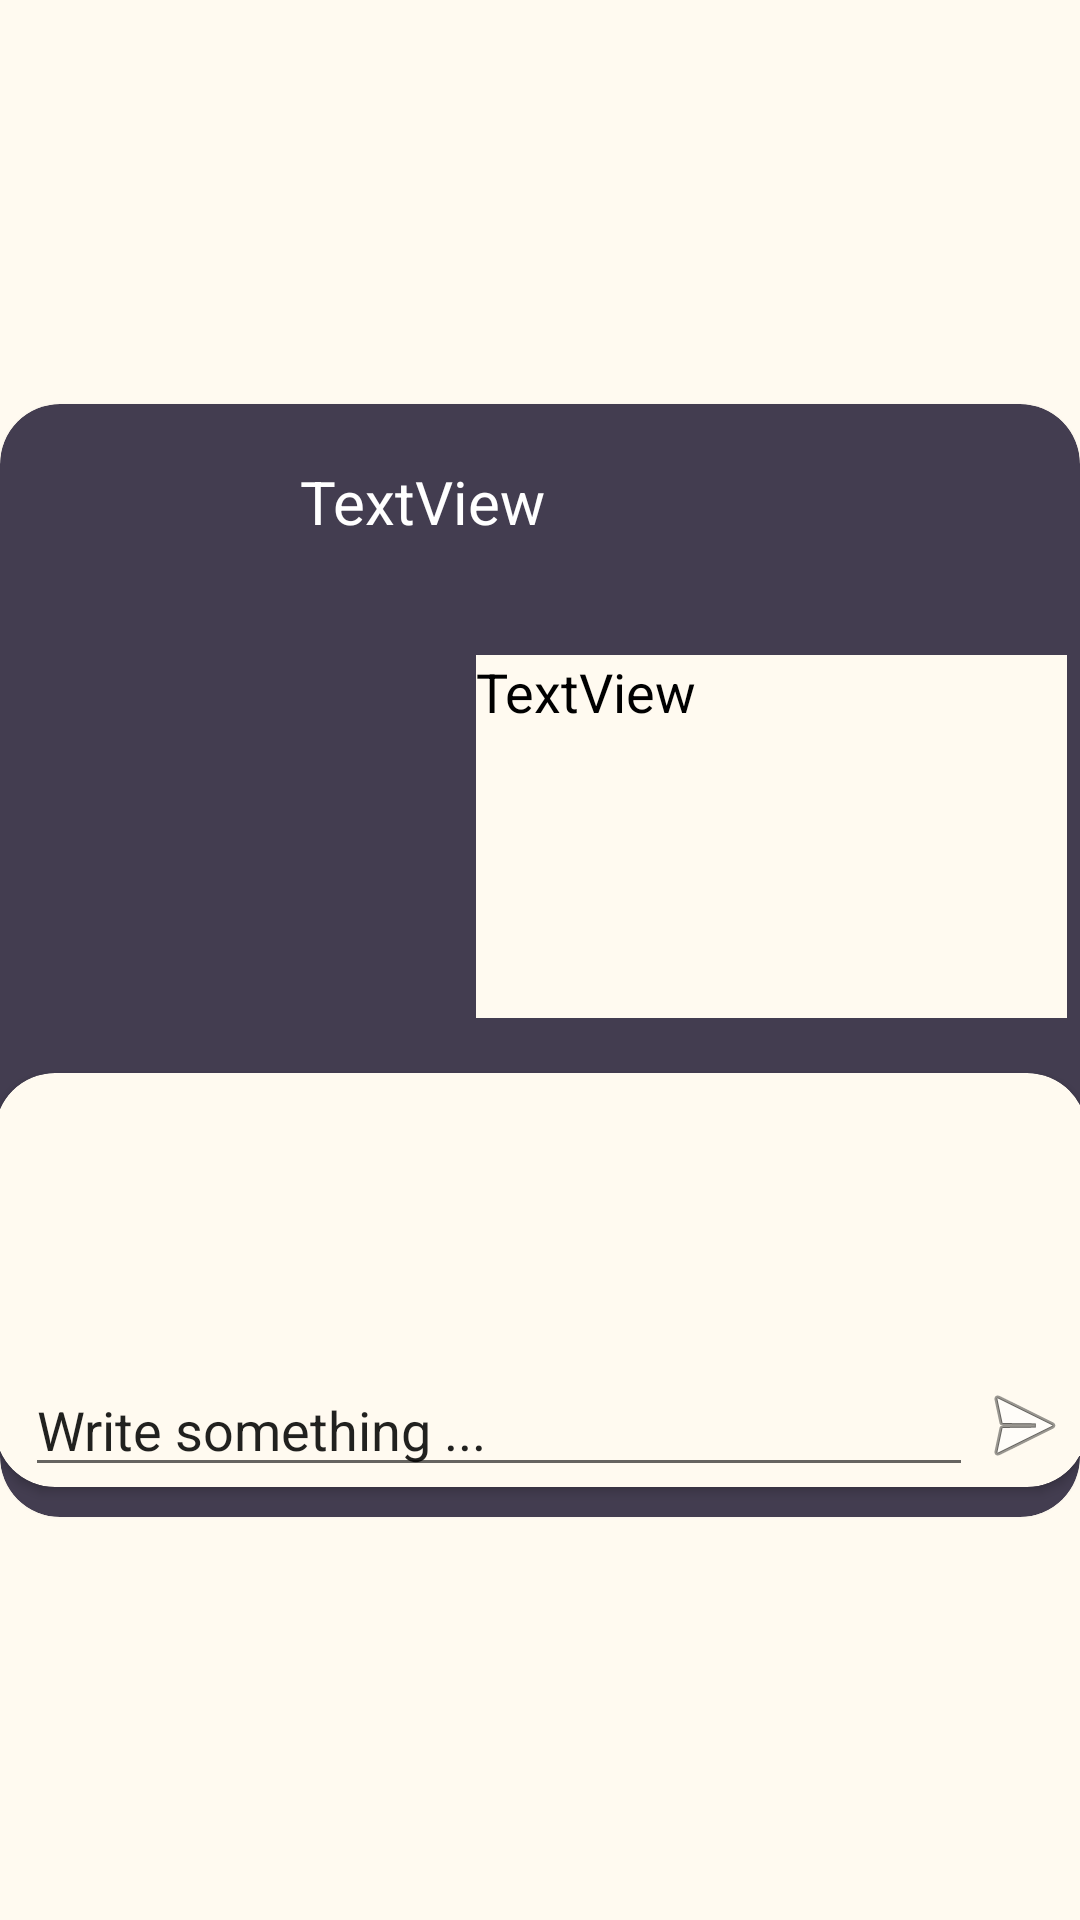

Icons on this 1080x1920 Android screen, each with its box as (x1, y1, x2, y2):
send: (994, 1395, 1056, 1456)
